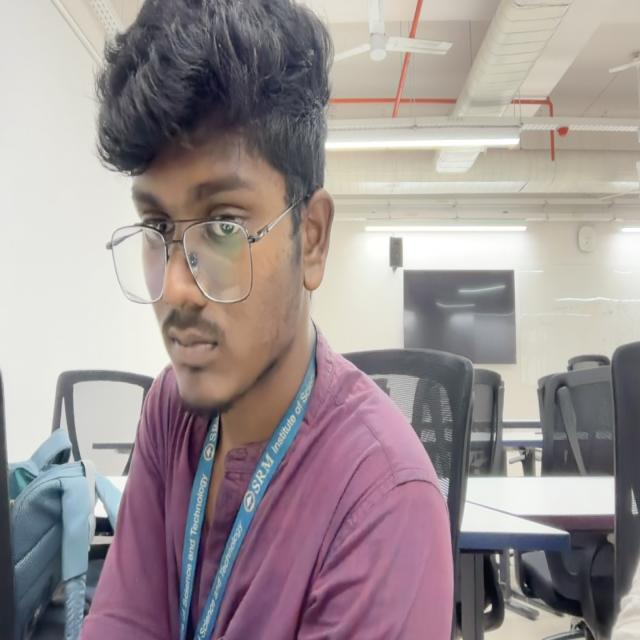ravindra: (95, 0, 332, 417)
